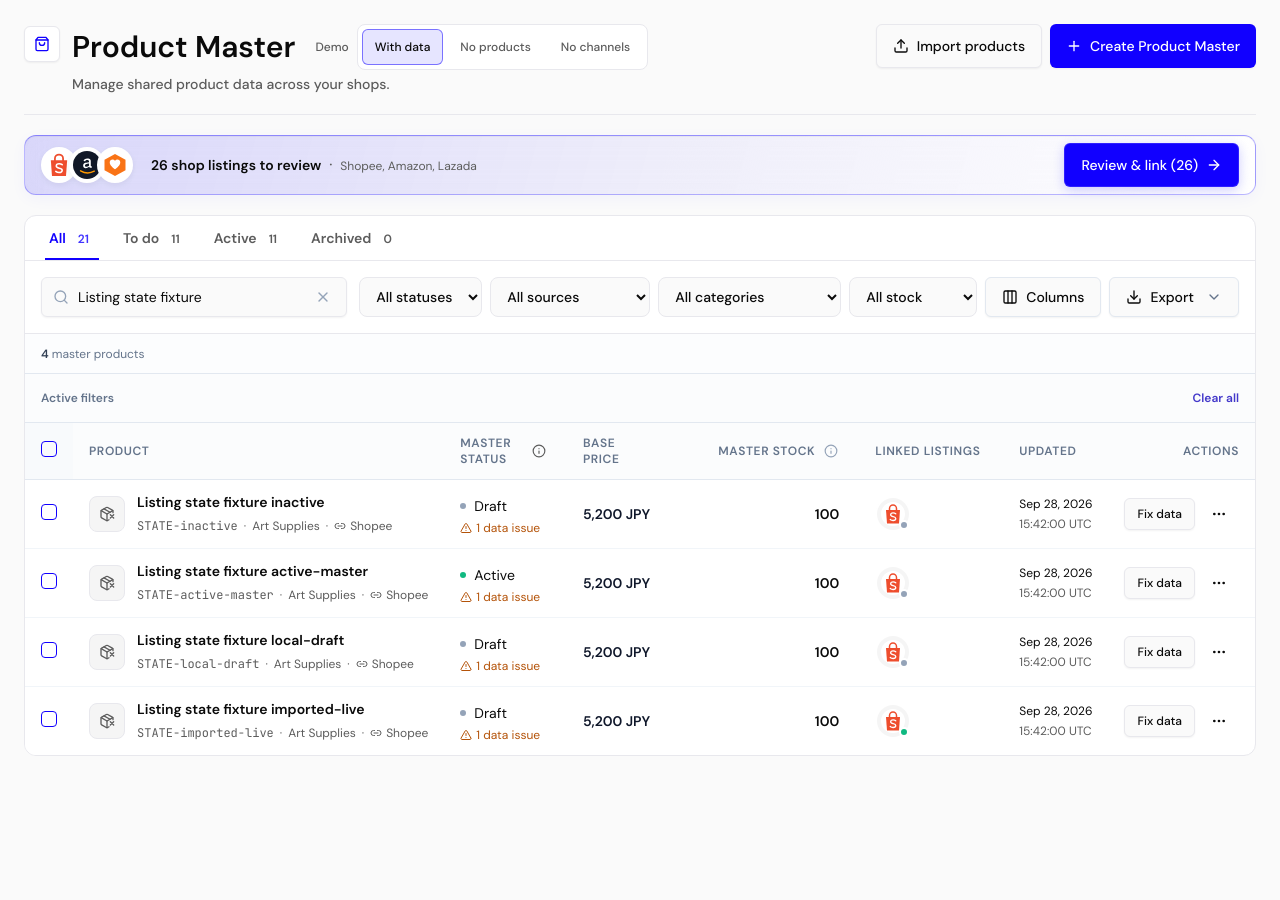
Scenario: seller-facing linked listing states › shows an unsent listing as Draft, without a processing or fabricated stock warning
Hover over the button named "Shopee, Shopee shop, SKU SHO-local-draft, stock Not reported".
mouse_move(893, 652)  # box [875,634,911,670]
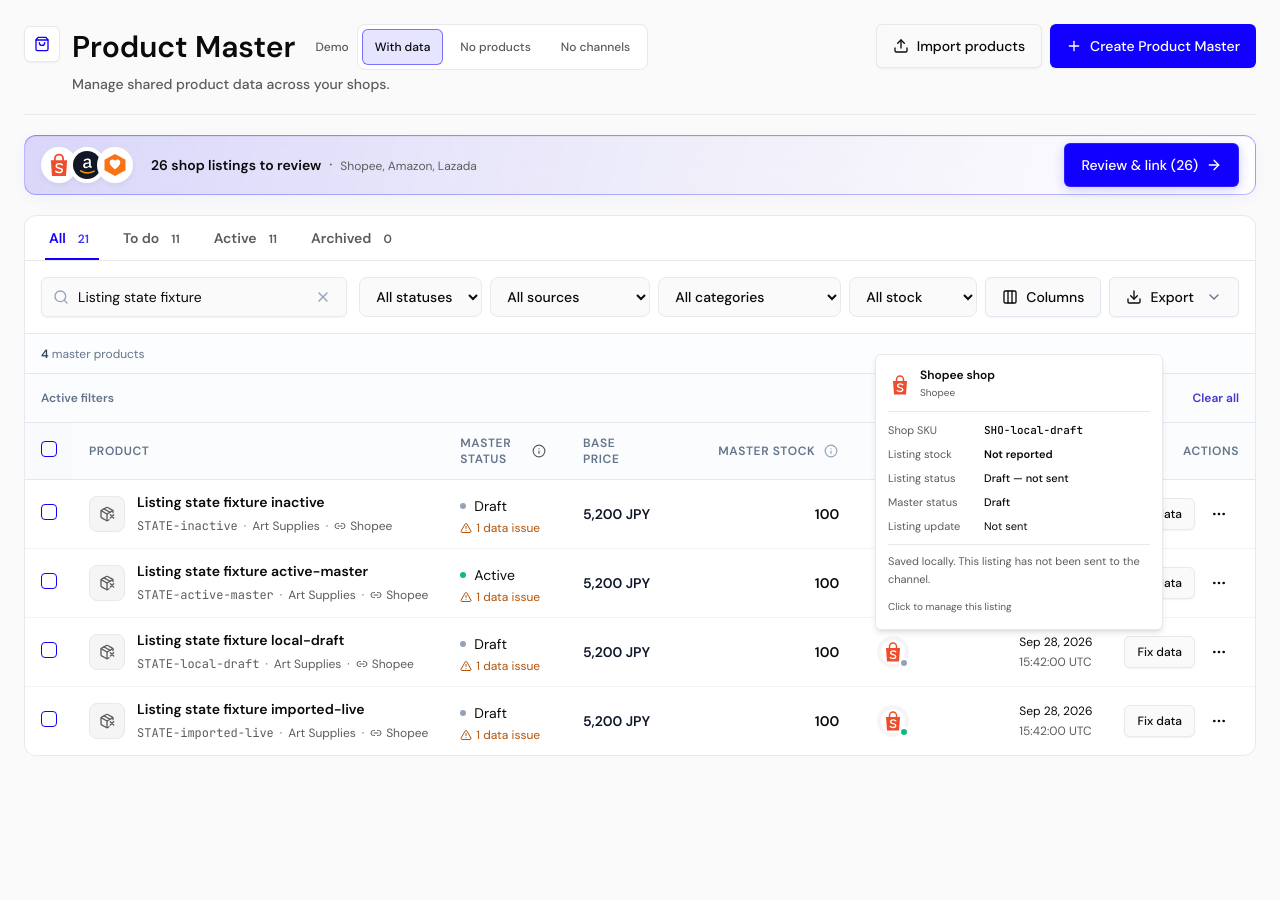
Expected: the tooltip shows "This listing has not been sent to the channel.", [888,554,1140,586]
